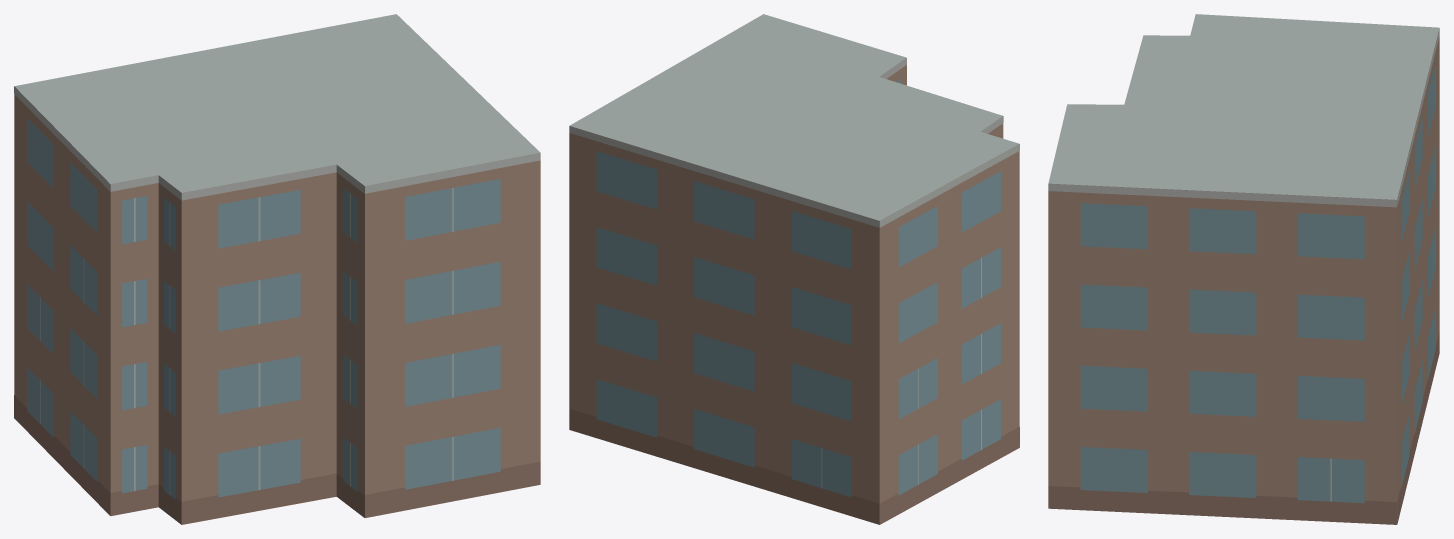
Rendered from survey-upis-32964592.glb.
3 views of the same model, side by side, from view 1: azimuth 30°, elevation 25°; view 2: azimuth 150°, elevation 25°; view 3: azimuth 270°, elevation 25° (orthographic). The views are drawn at different scales.
Visible parts, largest first — view 1: survey-upis-32964592.tmp; view 2: survey-upis-32964592.tmp; view 3: survey-upis-32964592.tmp.
Part boxes in pixels (box(x1,y1,x2,y2)): survey-upis-32964592.tmp: box(14, 14, 540, 524); survey-upis-32964592.tmp: box(569, 14, 1019, 524); survey-upis-32964592.tmp: box(1048, 14, 1439, 524).
Size of the model in its own units: 13.01 by 10.6 by 11.58.
